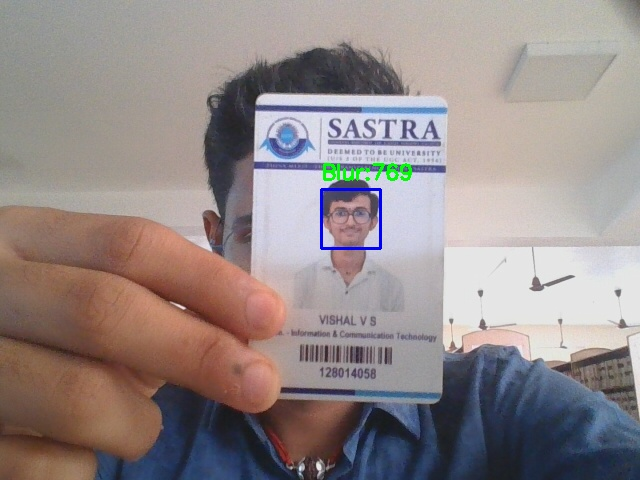fake: (321, 189, 380, 248)
